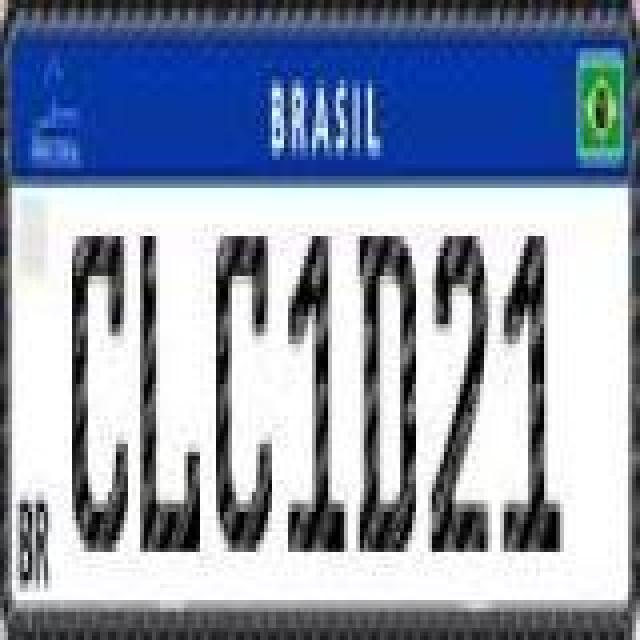1: (500, 224, 564, 560), (284, 230, 348, 554)
2: (428, 220, 492, 556)
C: (68, 230, 132, 554), (214, 230, 274, 554)
D: (358, 224, 418, 560)
L: (136, 230, 200, 554)
